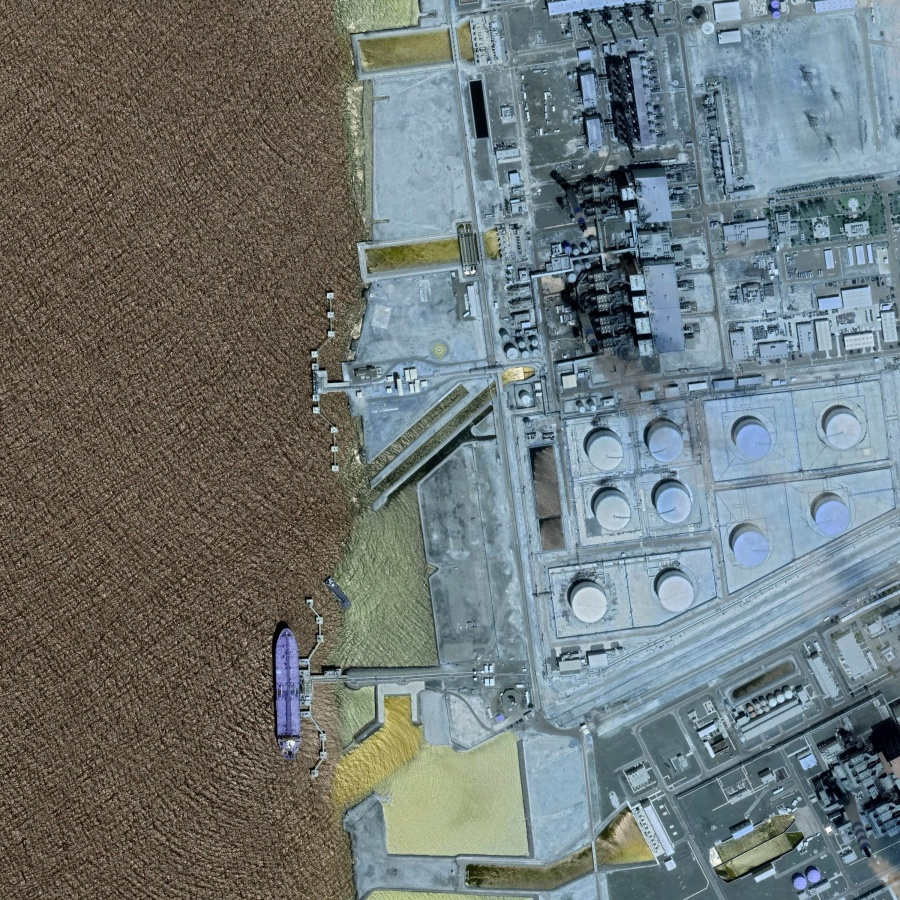PowerPlant: (517, 381, 897, 644), (497, 42, 719, 358)
